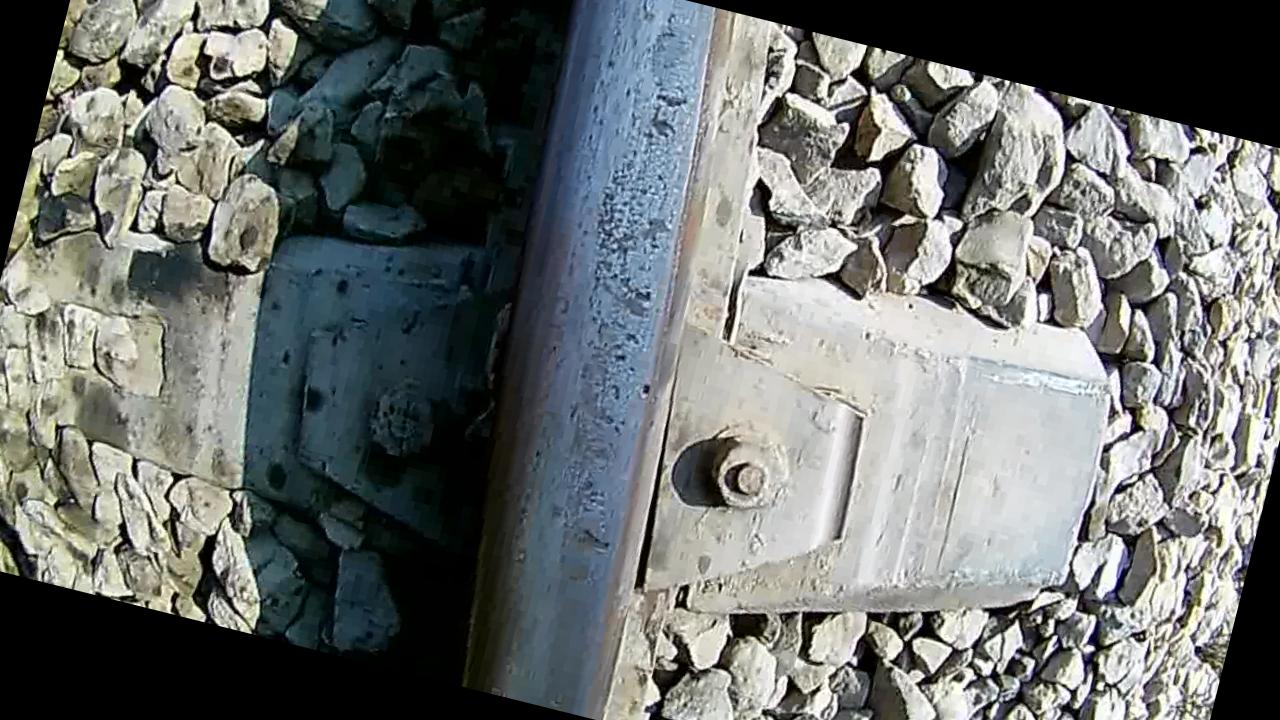crack: (414, 0, 771, 720)
